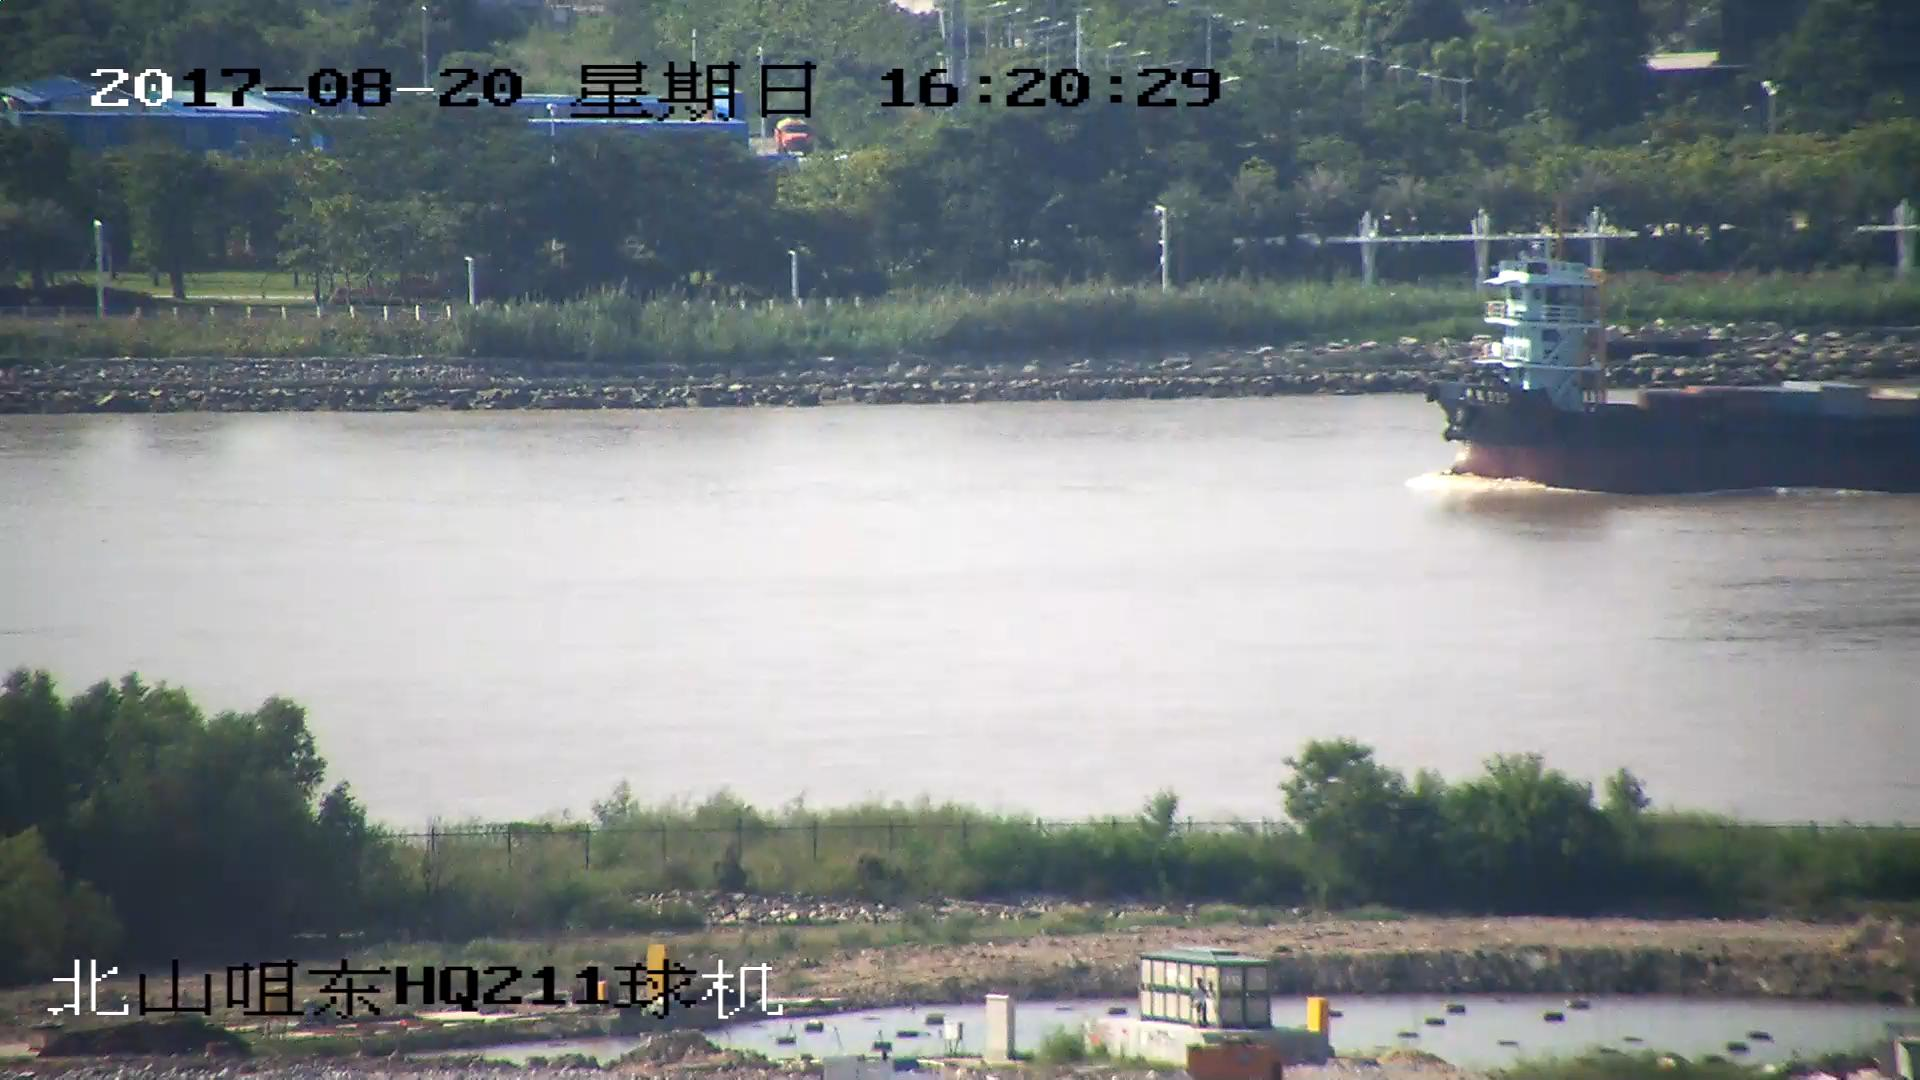container ship: (1440, 243, 1920, 493)
